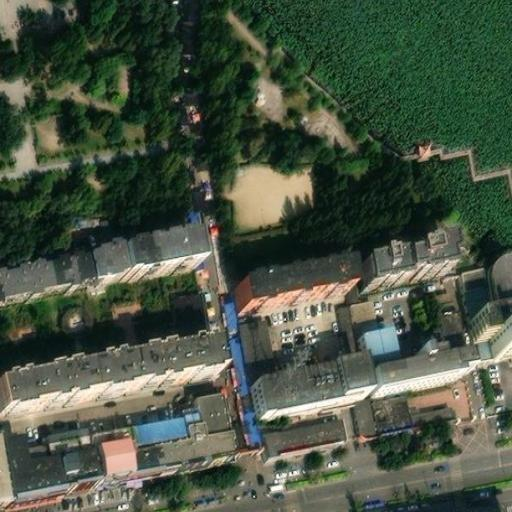building: (129, 386, 235, 463), (0, 352, 129, 410), (3, 414, 103, 487), (252, 360, 372, 420), (233, 263, 347, 312), (0, 253, 95, 304), (373, 343, 476, 389), (124, 334, 216, 383), (347, 299, 404, 371), (460, 243, 512, 318), (126, 227, 210, 271), (266, 412, 346, 453), (371, 396, 453, 434), (241, 312, 278, 368), (95, 420, 137, 469), (394, 241, 446, 277), (354, 254, 399, 291), (167, 288, 208, 327), (94, 242, 132, 278)
